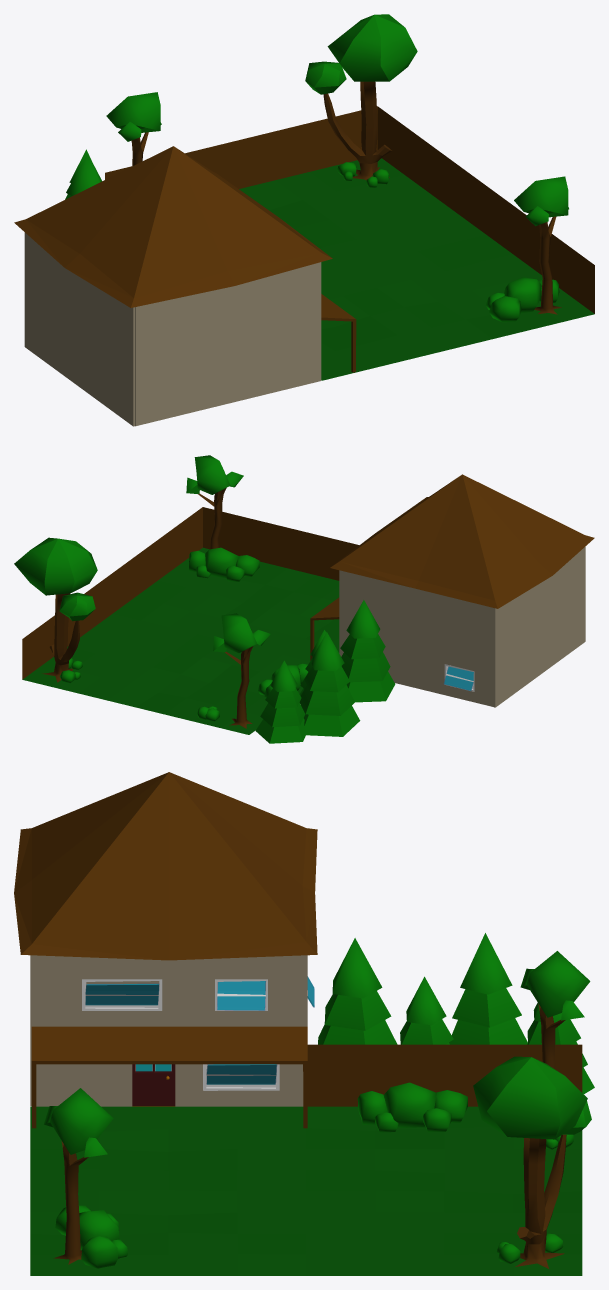
File: HouseV2Colour.fbx
3 views of the same model, one above another, from view 1: azimuth 30°, elevation 25°; view 2: azimuth 150°, elevation 25°; view 3: azimuth 270°, elevation 25° (orthographic). The views are drawn at different scales.
Parts seen in each view (by area): view 1: Ground, Roof, LWall, Fence, BWall, Tree5, Tree6, Tree, Bush, FWall, Tree8, Bush2; view 2: Ground, Roof, RWall, Fence, BWall, Tree (×2), Tree5, Tree8, Tree9, Tree6, Bush, FWall (+2 smaller); view 3: Ground, Roof, FWall, Fence, Tree5, Tree (×2), Tree8, Tree6, polySurface6 (×3), Bush (×2), Tree7, Bush3 (×2) (+7 smaller).
Part boxes in pixels (x1,y1,x2,y2): Ground: [239, 158, 594, 380]; Roof: [14, 146, 332, 307]; LWall: [135, 262, 321, 426]; Fence: [105, 106, 594, 313]; BWall: [24, 232, 134, 426]; Tree5: [305, 14, 417, 180]; Tree6: [514, 176, 568, 314]; Tree: [106, 92, 161, 166]; Bush: [504, 277, 541, 313]; FWall: [321, 294, 356, 372]; Tree8: [66, 153, 101, 197]; Bush2: [489, 296, 521, 322]; Ground: [22, 547, 339, 734]; Roof: [330, 474, 594, 608]; RWall: [340, 570, 493, 706]; Fence: [22, 507, 359, 679]; BWall: [494, 546, 585, 707]; Tree (×2): [213, 600, 395, 728]; Tree5: [14, 537, 97, 682]; Tree8: [299, 632, 360, 736]; Tree9: [255, 660, 306, 743]; Tree6: [186, 455, 243, 549]; Bush: [205, 547, 238, 577]; FWall: [310, 570, 339, 660]; Ground: [30, 1106, 582, 1275]; Roof: [14, 772, 317, 960]; FWall: [31, 955, 307, 1128]; Fence: [307, 1044, 582, 1106]; Tree5: [473, 1056, 591, 1268]; Tree (×2): [318, 938, 590, 1069]; Tree8: [449, 933, 527, 1044]; Tree6: [44, 1088, 113, 1264]; polySurface6 (×3): [85, 981, 277, 1084]; Bush (×2): [79, 1082, 436, 1250]; Tree7: [400, 976, 453, 1044]; Bush3 (×2): [81, 1091, 387, 1268].
Bounding box in the file's own units: 2641 × 1123 × 2116.
